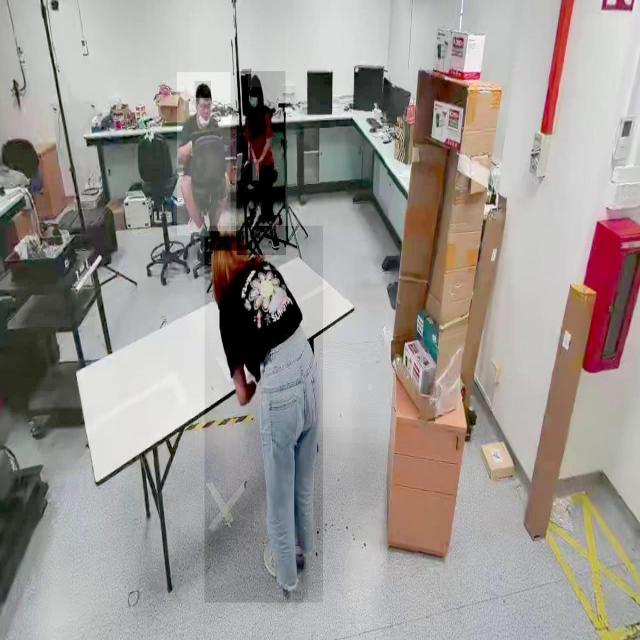face_mask: (248, 90, 260, 117)
hand_noglove: (252, 159, 260, 181), (224, 170, 230, 196), (254, 162, 260, 180)
head_nohelmet: (209, 231, 245, 252), (194, 81, 212, 99), (248, 73, 262, 88)
person: (204, 226, 324, 604), (236, 71, 286, 255), (177, 72, 231, 236)
shoes: (261, 540, 299, 591), (266, 222, 281, 252)
